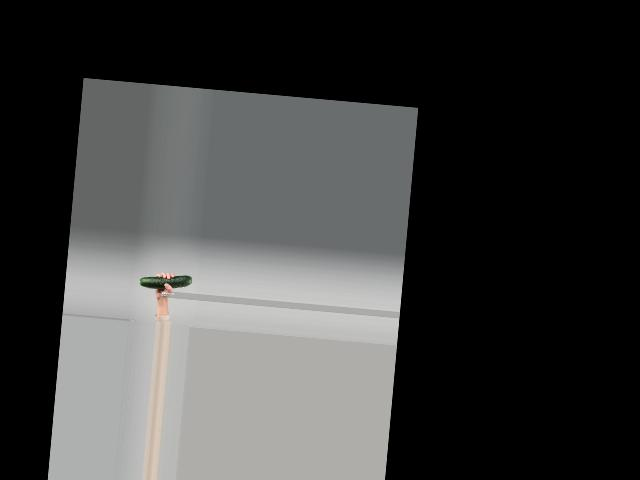cucumber: (140, 271, 192, 291)
